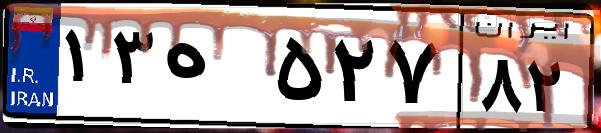1: (57, 26, 110, 100)
2: (330, 28, 385, 110), (525, 38, 570, 115)
3: (110, 28, 158, 98)
5: (270, 28, 330, 110)
7: (385, 28, 445, 110)
8: (475, 38, 525, 113)
ه: (158, 20, 270, 120)
